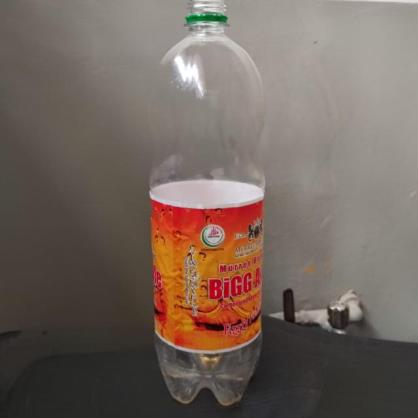bottle: (152, 0, 262, 402)
label: (154, 204, 264, 354)
